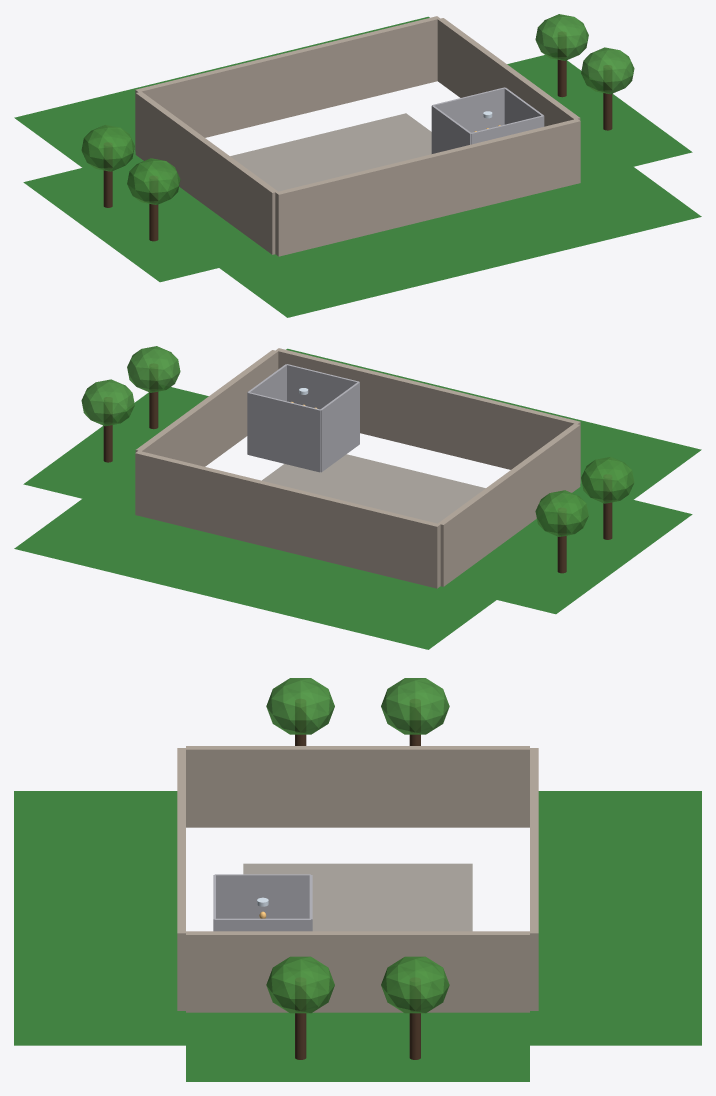
Rendered from photorealistic_v2_0af7f44e-8b5b-484b-83ff-2be6eeda28a4.obj.
The picture shows the model from 3 angles, top to bottom: view 1: azimuth 30°, elevation 25°; view 2: azimuth 150°, elevation 25°; view 3: azimuth 270°, elevation 25°; orthographic projection. The views are drawn at different scales.
Visible parts, largest first — view 1: Grass_Front, ExteriorWall_South, ExteriorWall_North, Grass_Left, ExteriorWall_West, Foundation, Grass_Right, ExteriorWall_East, Grass_Back, NorthWall_Kitchen, Crown_Tree1, Crown_Tree4 (+9 smaller); view 2: Grass_Back, ExteriorWall_North, ExteriorWall_South, Grass_Left, ExteriorWall_West, Grass_Right, Foundation, ExteriorWall_East, Grass_Front, NorthWall_Kitchen, WestWall_Kitchen, SouthWall_Kitchen (+9 smaller); view 3: Grass_Front, Grass_Back, ExteriorWall_West, Grass_Right, ExteriorWall_East, Foundation, WestWall_Kitchen, Crown_Tree2, Crown_Tree4, Crown_Tree1, Crown_Tree3, ExteriorWall_North (+4 smaller).
Boxes of the visible parts, <box> form: Grass_Front: <box>219,167,701,317</box>; ExteriorWall_South: <box>275,118,580,256</box>; ExteriorWall_North: <box>135,16,440,151</box>; Grass_Left: <box>23,155,271,282</box>; ExteriorWall_West: <box>135,91,277,254</box>; Foundation: <box>230,113,431,191</box>; Grass_Right: <box>507,55,692,179</box>; ExteriorWall_East: <box>437,18,580,126</box>; Grass_Back: <box>14,16,429,167</box>; NorthWall_Kitchen: <box>432,87,504,132</box>; Crown_Tree1: <box>127,158,180,204</box>; Crown_Tree4: <box>535,14,588,60</box>; Grass_Back: <box>14,499,496,649</box>; ExteriorWall_North: <box>135,450,440,588</box>; ExteriorWall_South: <box>275,348,580,483</box>; Grass_Left: <box>444,487,692,614</box>; ExteriorWall_West: <box>438,423,580,586</box>; Grass_Right: <box>23,387,208,511</box>; Foundation: <box>262,454,485,523</box>; ExteriorWall_East: <box>135,350,278,466</box>; Grass_Front: <box>286,348,701,499</box>; NorthWall_Kitchen: <box>247,392,320,472</box>; WestWall_Kitchen: <box>320,382,359,472</box>; SouthWall_Kitchen: <box>286,364,359,409</box>; Grass_Front: <box>14,791,185,1045</box>; Grass_Back: <box>530,791,701,1045</box>; ExteriorWall_West: <box>186,746,529,827</box>; Grass_Right: <box>186,1012,529,1081</box>; ExteriorWall_East: <box>186,931,529,1012</box>; Foundation: <box>243,863,472,931</box>; WestWall_Kitchen: <box>214,874,310,918</box>; Crown_Tree2: <box>266,956,334,1013</box>; Crown_Tree4: <box>381,956,449,1013</box>; Crown_Tree1: <box>266,678,334,734</box>; Crown_Tree3: <box>381,678,449,734</box>; ExteriorWall_North: <box>530,748,538,1010</box>.
Bounding box in the file's own units: 27 × 3.9 × 24.
